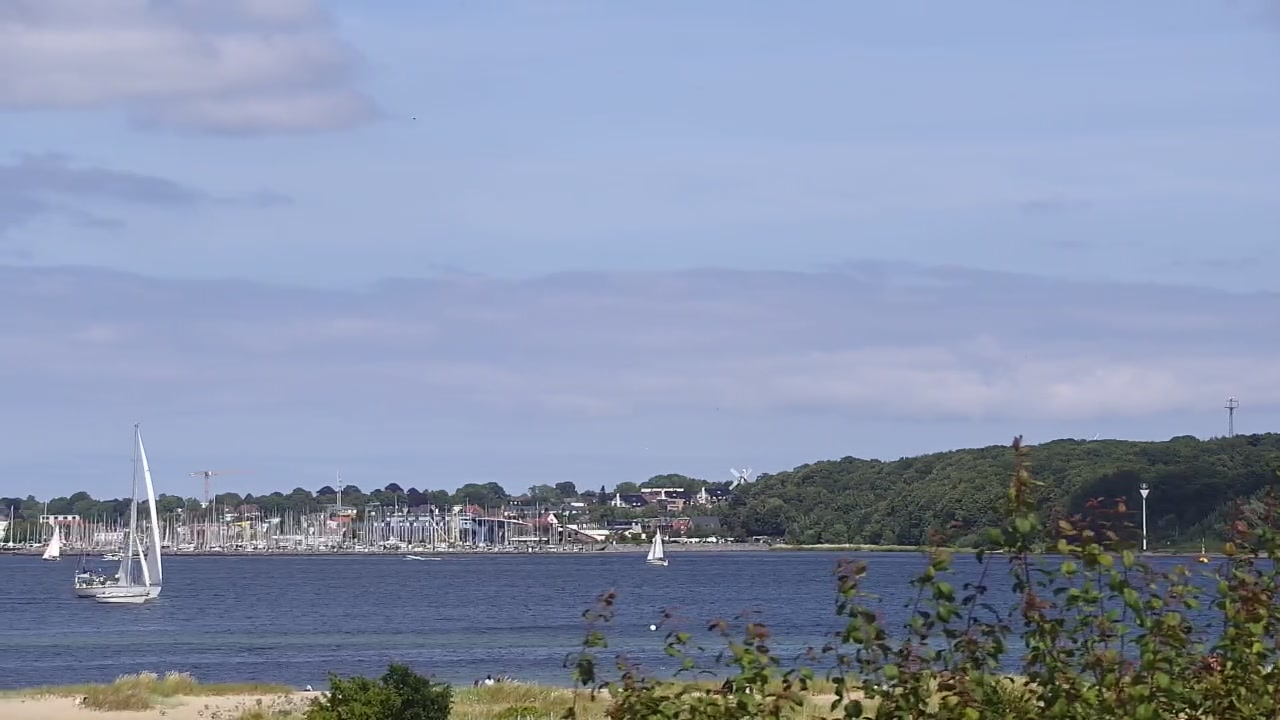human: (483, 673, 494, 686)
sea: (72, 421, 163, 599), (94, 502, 151, 603), (643, 526, 669, 566), (1, 505, 21, 554), (40, 523, 61, 562), (403, 552, 423, 560)
